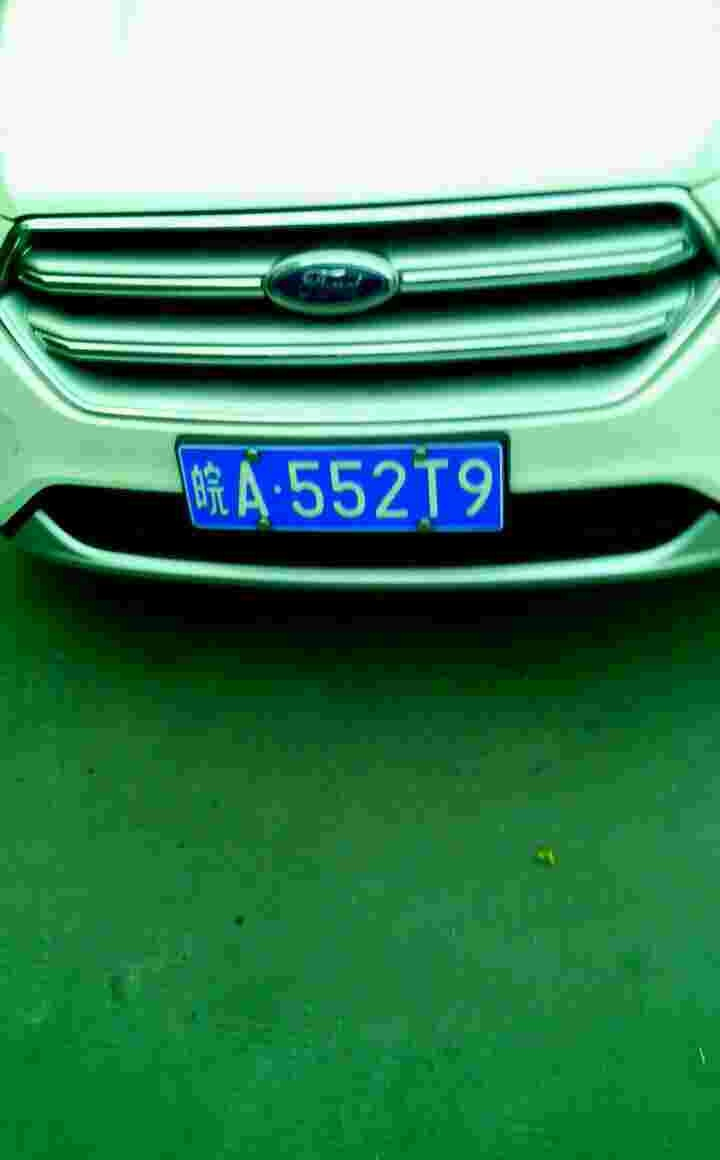license_plate: (186, 443, 507, 545)
